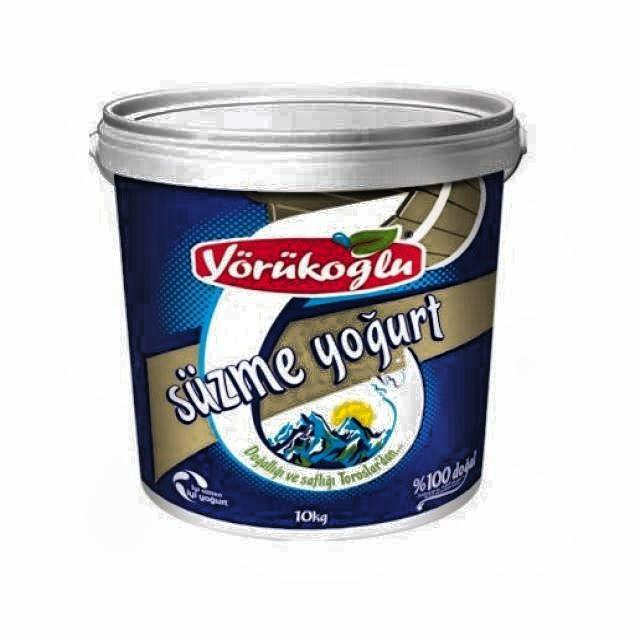plastic: (93, 83, 522, 544)
